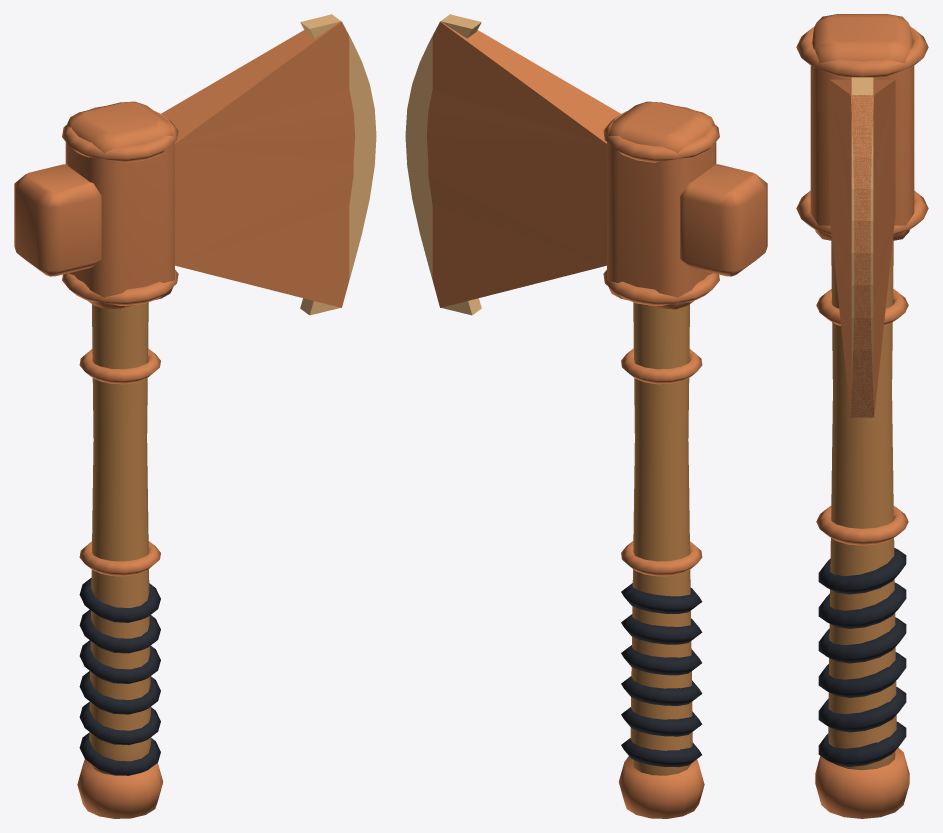
Rendered from Tool_T3.fbx.
3 renders of one model, left to right at view 1: azimuth 30°, elevation 25°; view 2: azimuth 150°, elevation 25°; view 3: azimuth 270°, elevation 25°, orthographic. The views are drawn at different scales.
Parts seen in each view (by area): view 1: ToolT3Head, ToolT3Handle; view 2: ToolT3Head, ToolT3Handle; view 3: ToolT3Handle, ToolT3Head.
Part boxes in pixels (left/top/right/bottom): ToolT3Head: left=14, top=14, right=376, bottom=315; ToolT3Handle: left=77, top=302, right=162, bottom=818; ToolT3Head: left=405, top=14, right=767, bottom=315; ToolT3Handle: left=619, top=302, right=704, bottom=818; ToolT3Handle: left=815, top=241, right=909, bottom=818; ToolT3Head: left=796, top=14, right=928, bottom=417.
Bounding box in the file's own units: 217 × 440 × 64.
